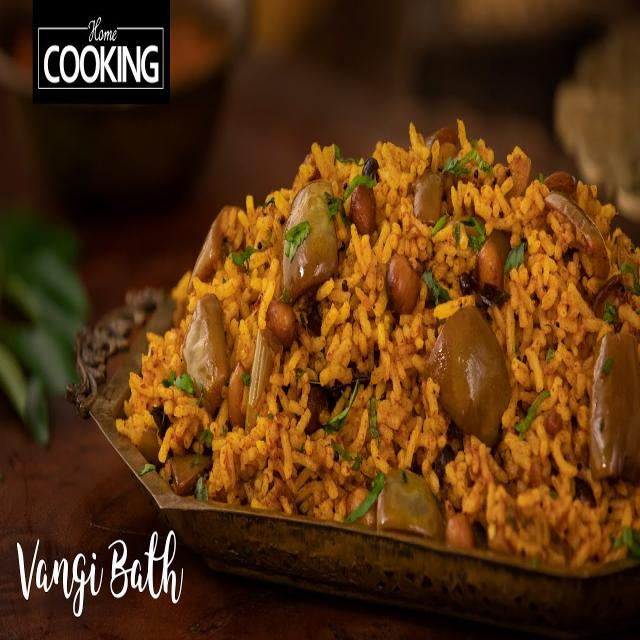vangi bath: (104, 102, 640, 582)
